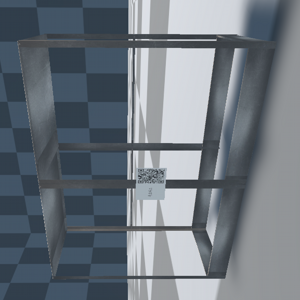Rack: (21, 20, 284, 267)
